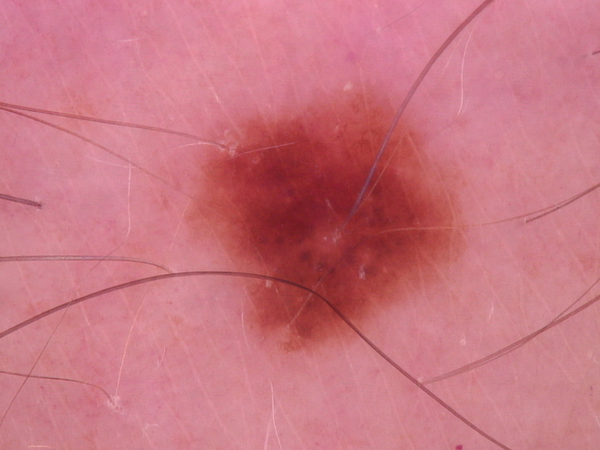Detected Lesion: (196, 92, 463, 356)
